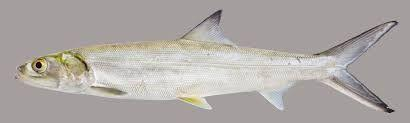Indo-Pacific Tarpon: (14, 8, 403, 112)
